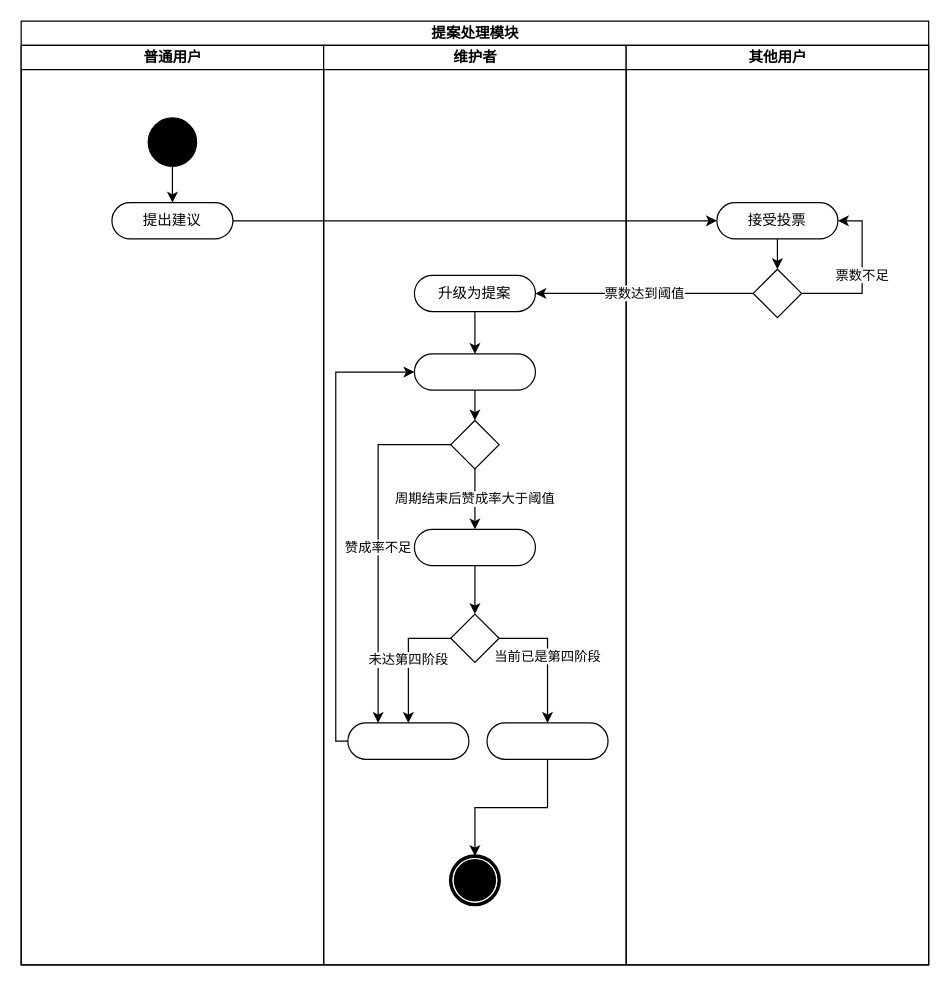
This 950x986 diagram has some shape labels left out. The centre of each missing label's shape, as x and y in pixels:
周期内投票: point 474,371
进入下一阶段: point 474,547
进入开发序列: point 547,740
迭代提案: point 408,740
